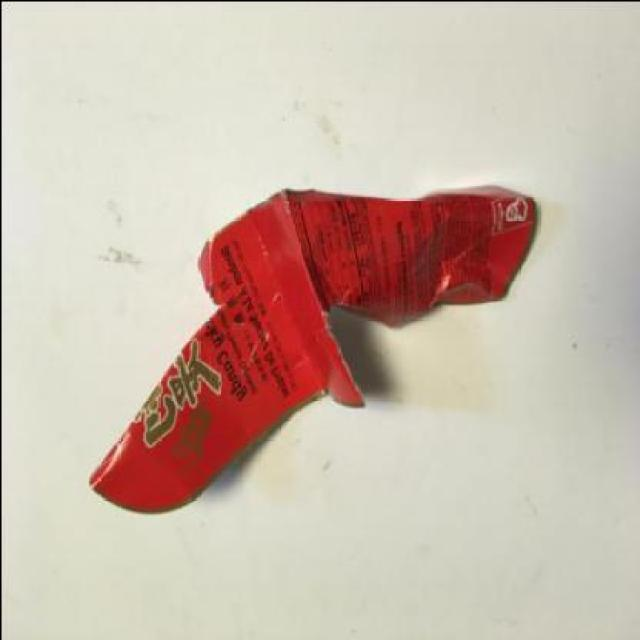bottles: (88, 183, 539, 514)
